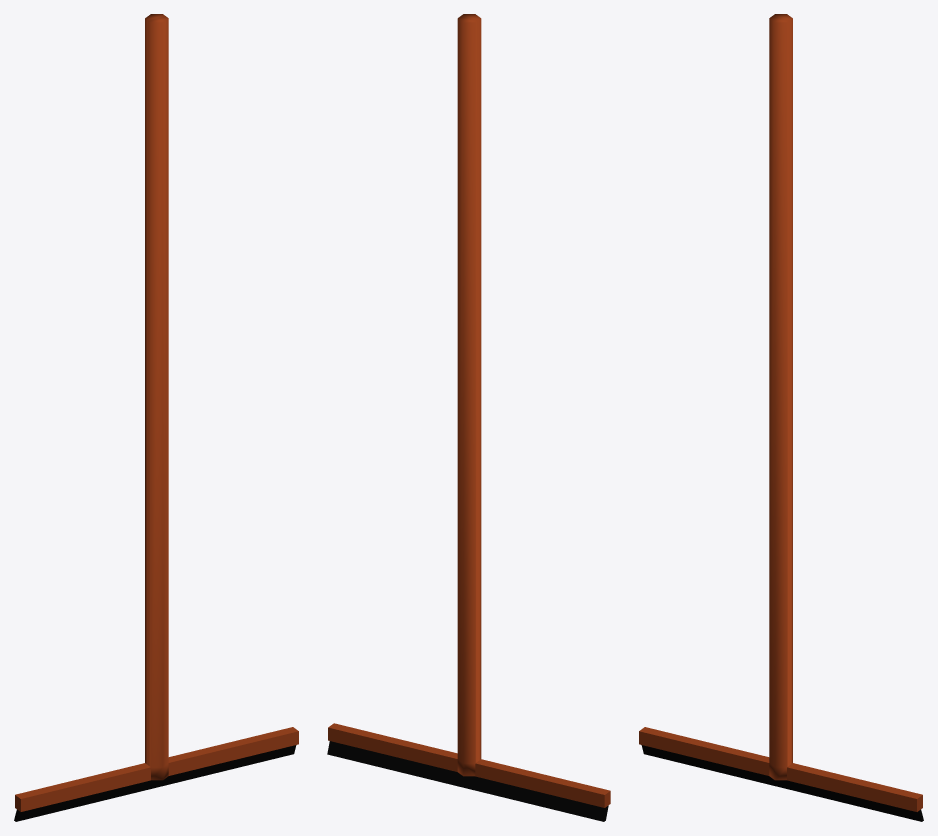
The model's file is Rodo.dae.
3 views of the same model, side by side, from view 1: azimuth 30°, elevation 25°; view 2: azimuth 150°, elevation 25°; view 3: azimuth 330°, elevation 25° (orthographic).
Parts seen in each view (by area): view 1: Cylinder; view 2: Cylinder; view 3: Cylinder.
Boxes of the visible parts, <box> form: Cylinder: <box>14,14,298,821</box>; Cylinder: <box>327,14,610,821</box>; Cylinder: <box>639,14,923,821</box>.
Size of the model in its own units: 13.74 by 1.02 by 36.4.
